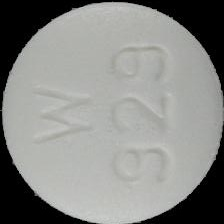76237-197: (0, 0, 224, 224)
